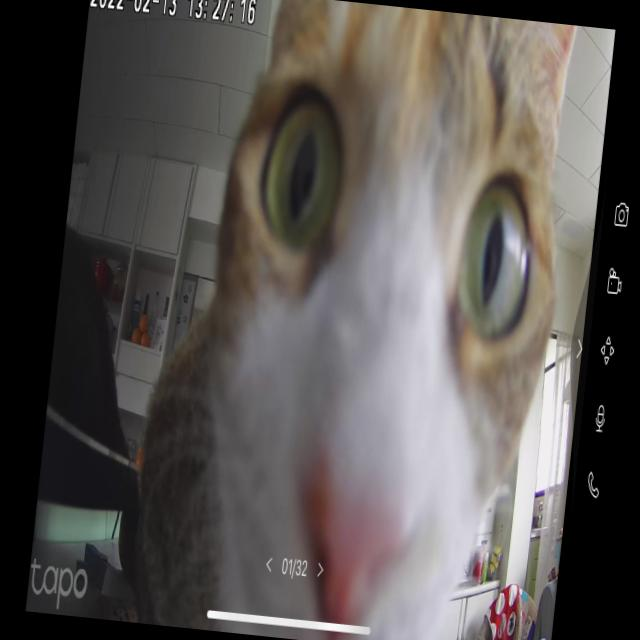cat2: (122, 0, 582, 640)
